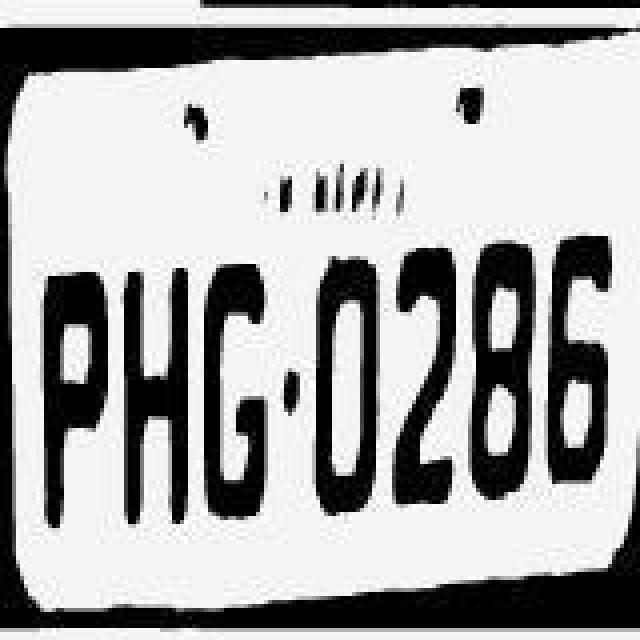2: (388, 230, 460, 514)
6: (550, 222, 618, 506)
8: (470, 228, 538, 508)
G: (200, 244, 272, 524)
H: (120, 252, 200, 524)
O: (314, 242, 382, 526)
P: (40, 250, 120, 526)
